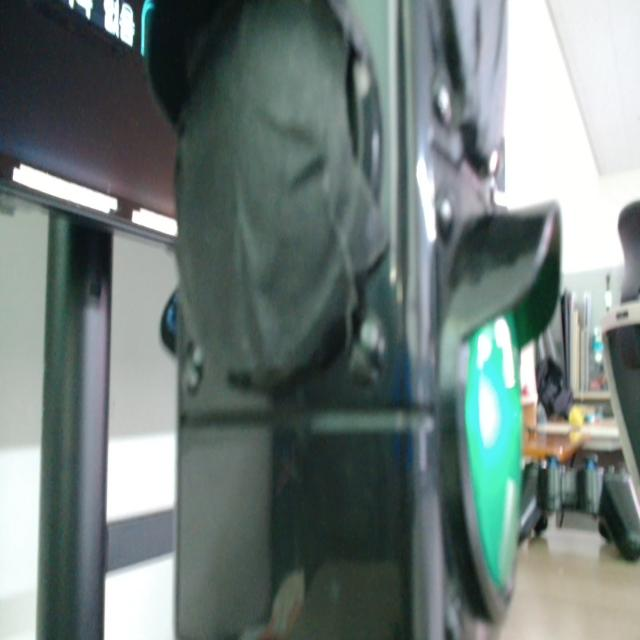green_light: (466, 318, 521, 588)
